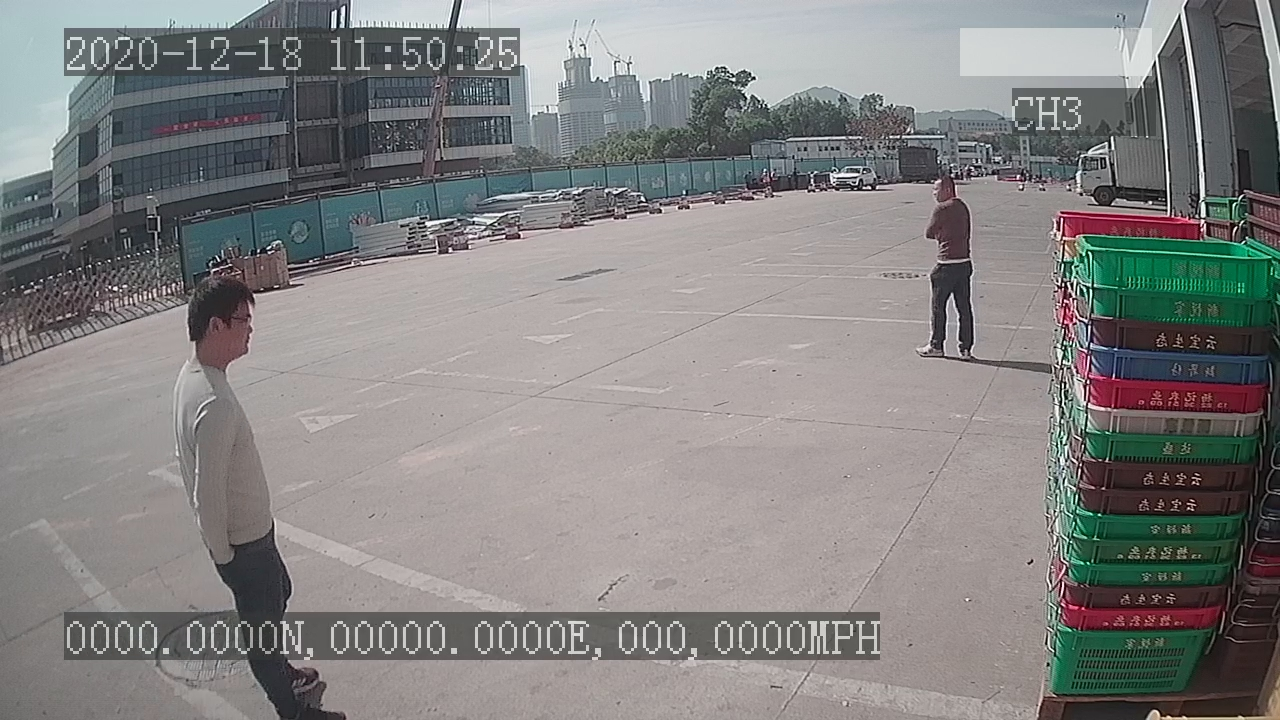person: (913, 174, 984, 367)
